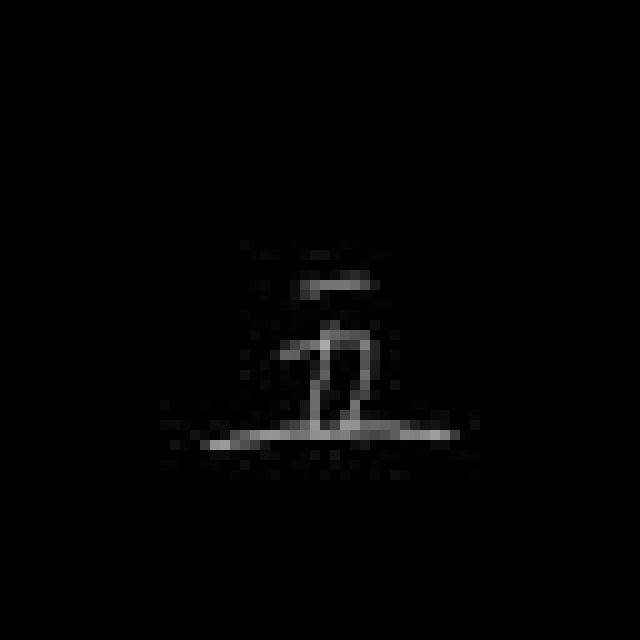5 -five-: (198, 259, 459, 457)
